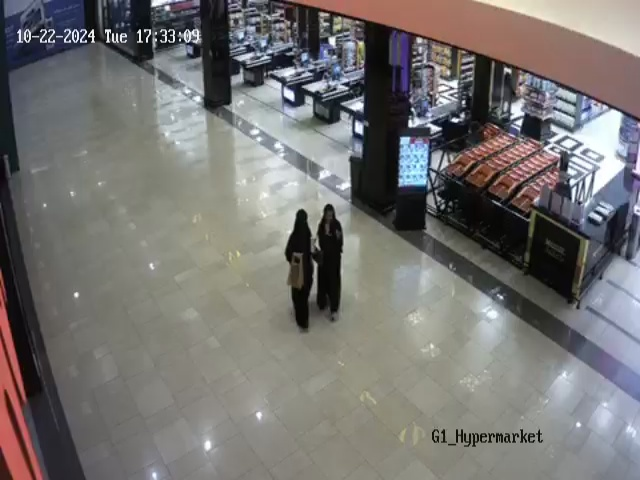female: (284, 208, 315, 333), (312, 203, 344, 322)
